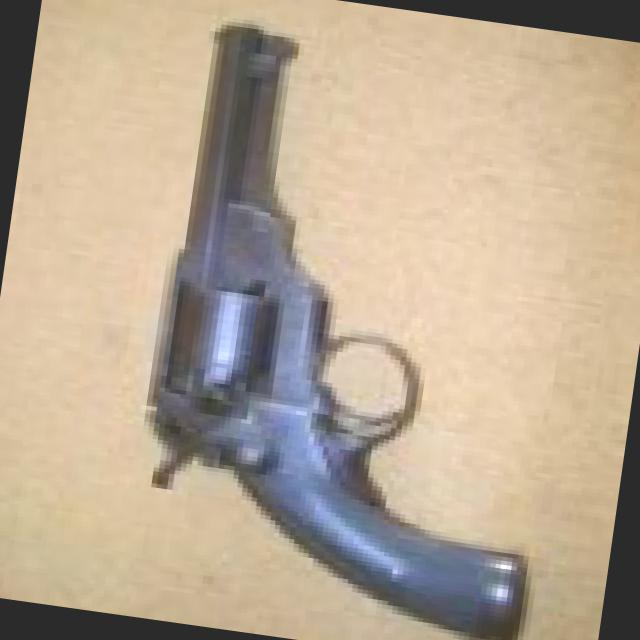handgun: (101, 26, 596, 639)
